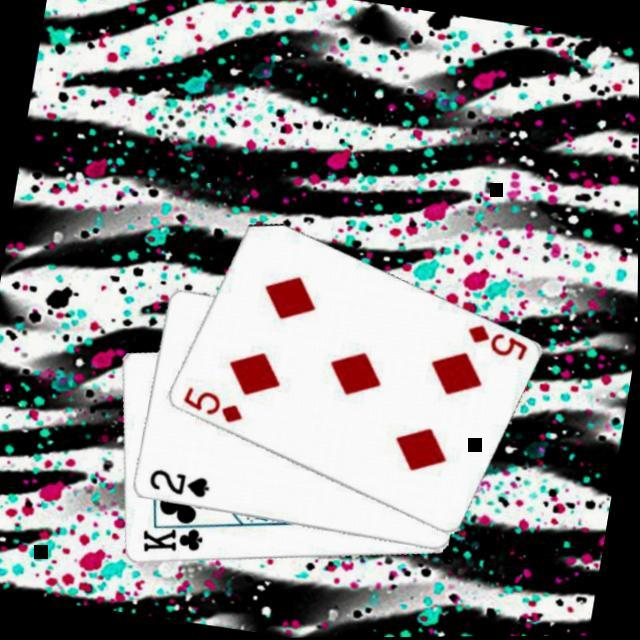2S: (147, 464, 217, 502)
5D: (463, 318, 535, 364), (179, 381, 251, 426)
KC: (139, 510, 215, 562)
